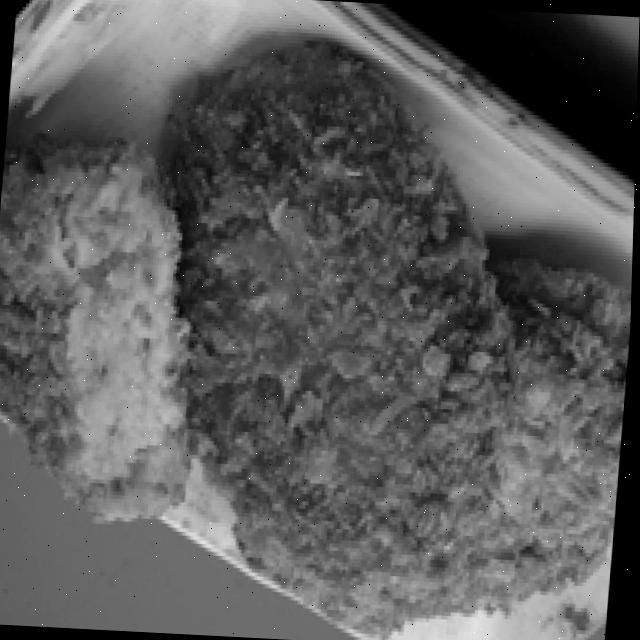炸货点心: (0, 31, 639, 640)
